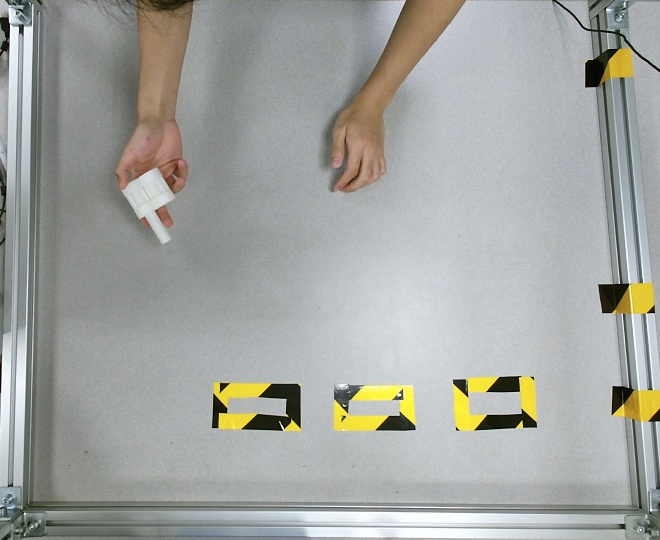stage_4: (121, 166, 174, 244)
